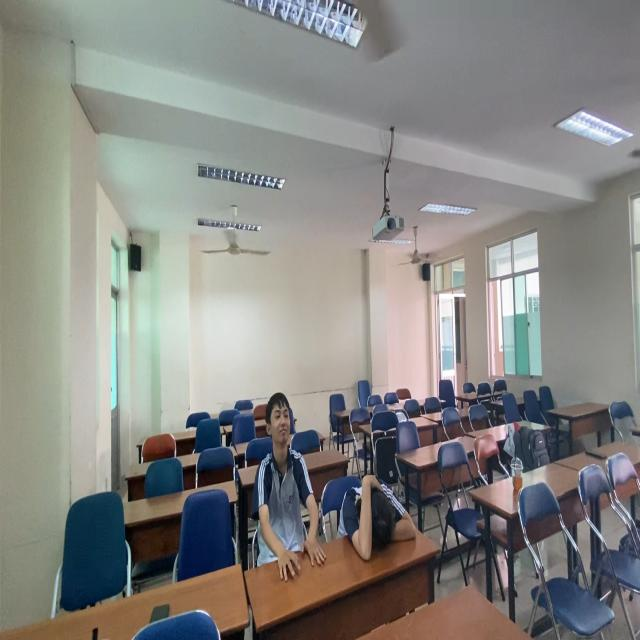sleep: (329, 470, 421, 563)
